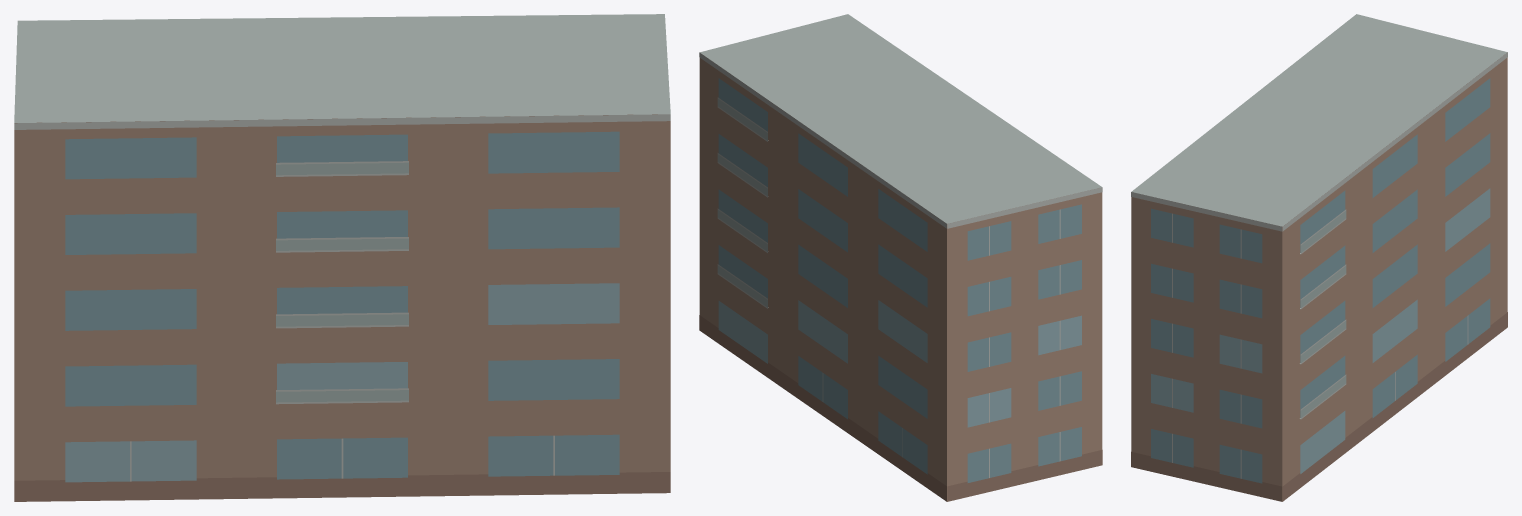
File: survey-upis-32859458.glb
The picture shows the model from 3 angles, left to right: view 1: azimuth 30°, elevation 25°; view 2: azimuth 150°, elevation 25°; view 3: azimuth 270°, elevation 25°; orthographic projection. The views are drawn at different scales.
Parts seen in each view (by area): view 1: survey-upis-32859458.tmp; view 2: survey-upis-32859458.tmp; view 3: survey-upis-32859458.tmp.
Part boxes in pixels (x1,y1,x2,y2): survey-upis-32859458.tmp: [14, 14, 670, 501]; survey-upis-32859458.tmp: [699, 14, 1102, 501]; survey-upis-32859458.tmp: [1131, 14, 1507, 501].
Size of the model in its own units: 22.22 by 13.4 by 16.63.
